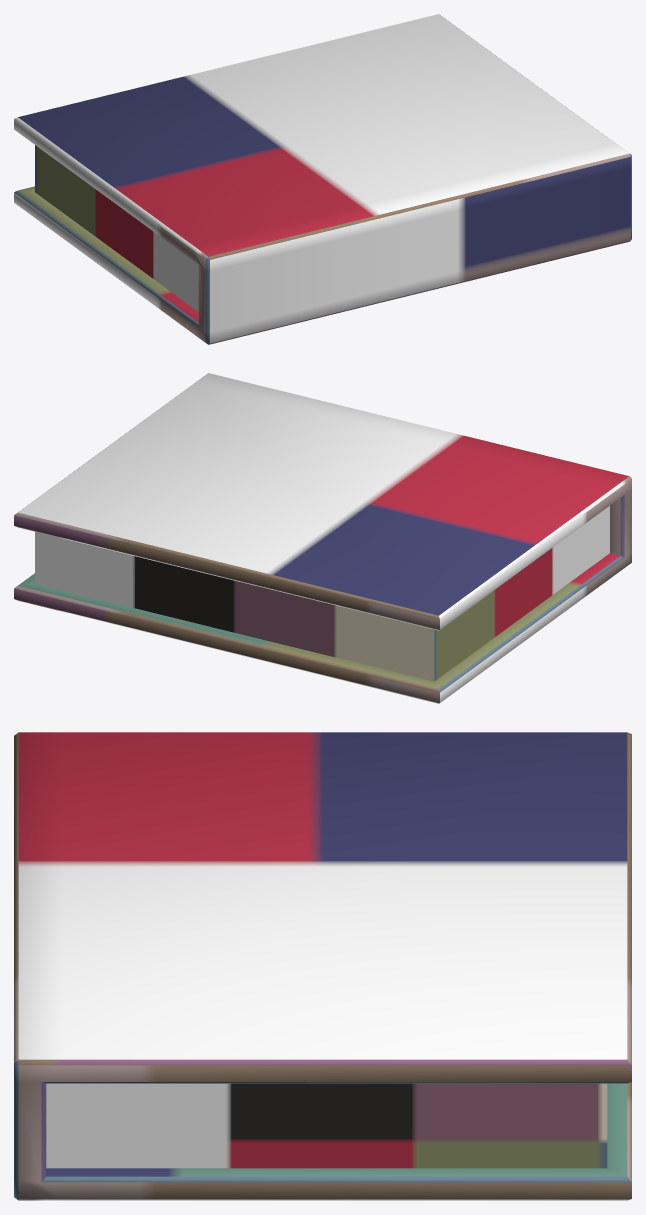
Rendered from SM_Livre_1_LP.fbx.
3 views of the same model, one above another, from view 1: azimuth 30°, elevation 25°; view 2: azimuth 150°, elevation 25°; view 3: azimuth 270°, elevation 25° (orthographic). The views are drawn at different scales.
Parts seen in each view (by area): view 1: SM_Livre_1_LP; view 2: SM_Livre_1_LP; view 3: SM_Livre_1_LP.
Boxes of the visible parts, x1=… form: SM_Livre_1_LP: x1=14, y1=14, x2=631, y2=344; SM_Livre_1_LP: x1=14, y1=373, x2=631, y2=703; SM_Livre_1_LP: x1=14, y1=732, x2=631, y2=1200.
Size of the model in its own units: 22.41 by 4.46 by 17.63.
